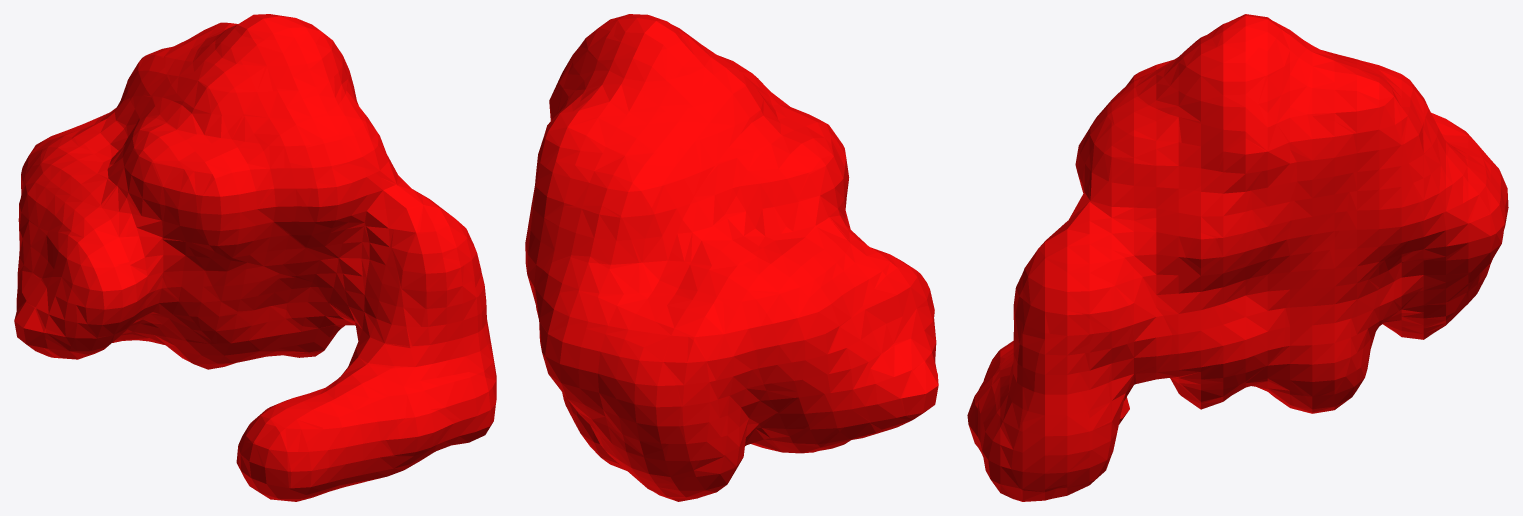
Rendered from can_coarse.dae.
3 views of the same model, side by side, from view 1: azimuth 30°, elevation 25°; view 2: azimuth 150°, elevation 25°; view 3: azimuth 270°, elevation 25° (orthographic). The views are drawn at different scales.
Visible parts, largest first — view 1: can; view 2: can; view 3: can.
Boxes of the visible parts, <box> form: can: <box>14,14,496,501</box>; can: <box>525,14,938,501</box>; can: <box>967,14,1508,501</box>.
Size of the model in its own units: 53.42 by 53.9 by 58.01.
